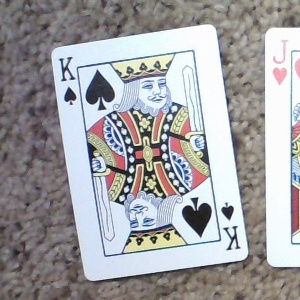card: (51, 22, 249, 278)
